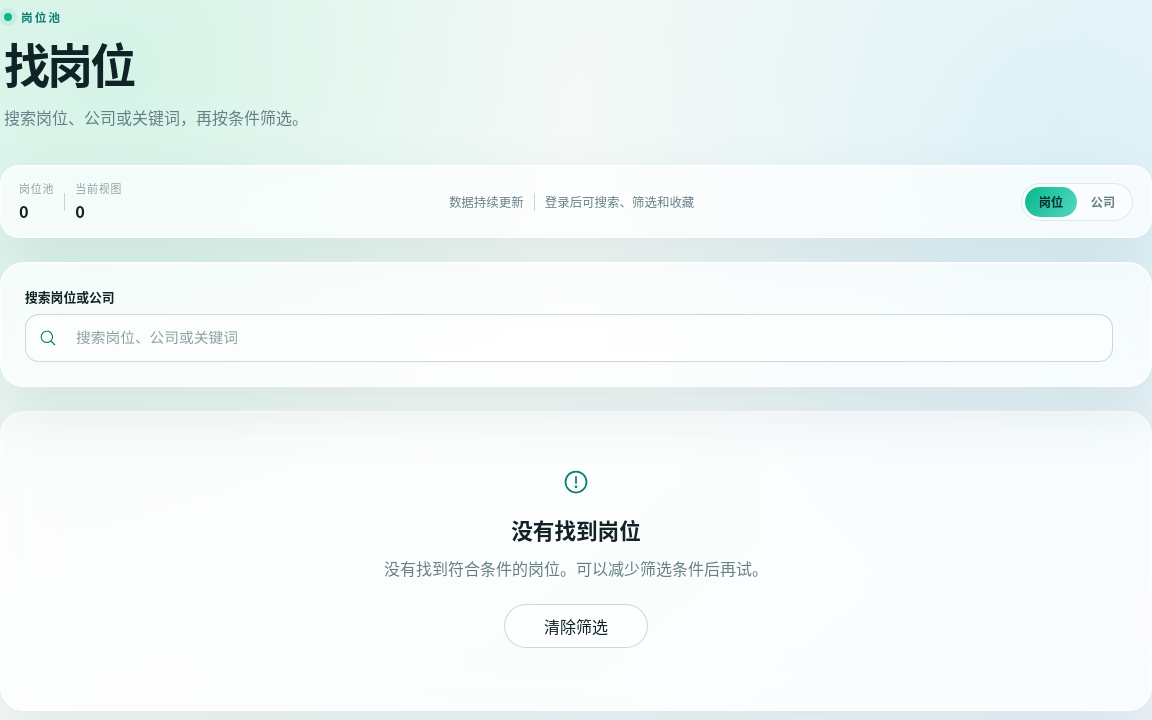
Test case: JobsPage › keeps the published date control consistent and hides low-value filters
Click the field with placeholder "搜索岗位、公司或关键词". click: (569, 338)
box: x1=25 y1=314 x2=1113 y2=362
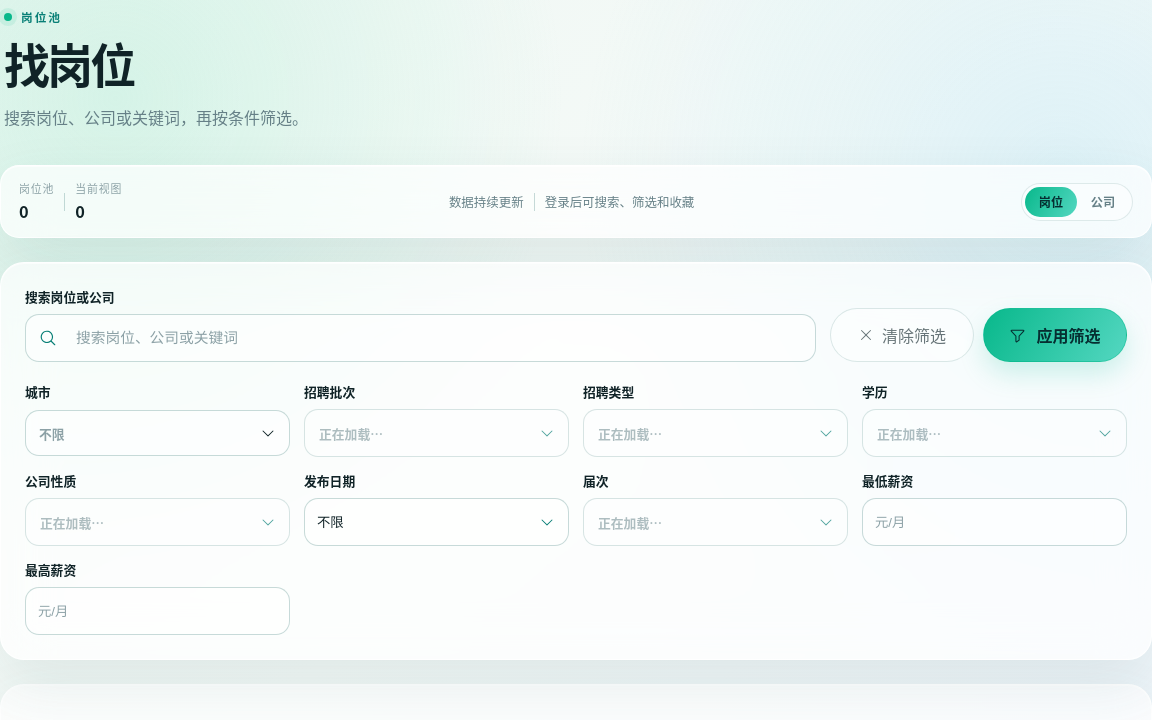
Now the text "招聘批次" is shown, box x1=304 y1=382 x2=355 y2=401
Now the number of buttons "应用筛选" is 1, box x1=983 y1=308 x2=1127 y2=362
